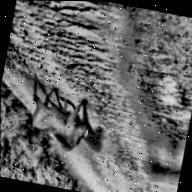boar: (23, 80, 98, 155)
